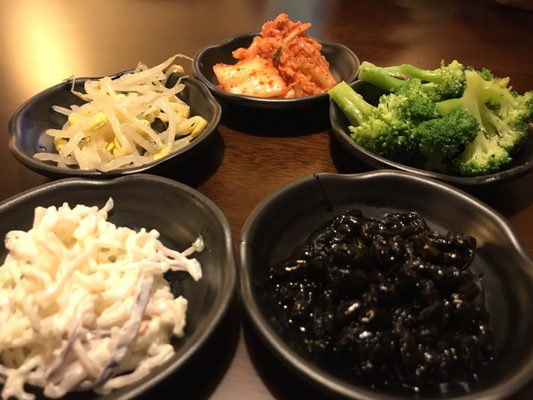curry: (334, 57, 533, 177)
sushi: (238, 170, 533, 399), (0, 174, 238, 400), (7, 56, 223, 182), (194, 18, 362, 136)
